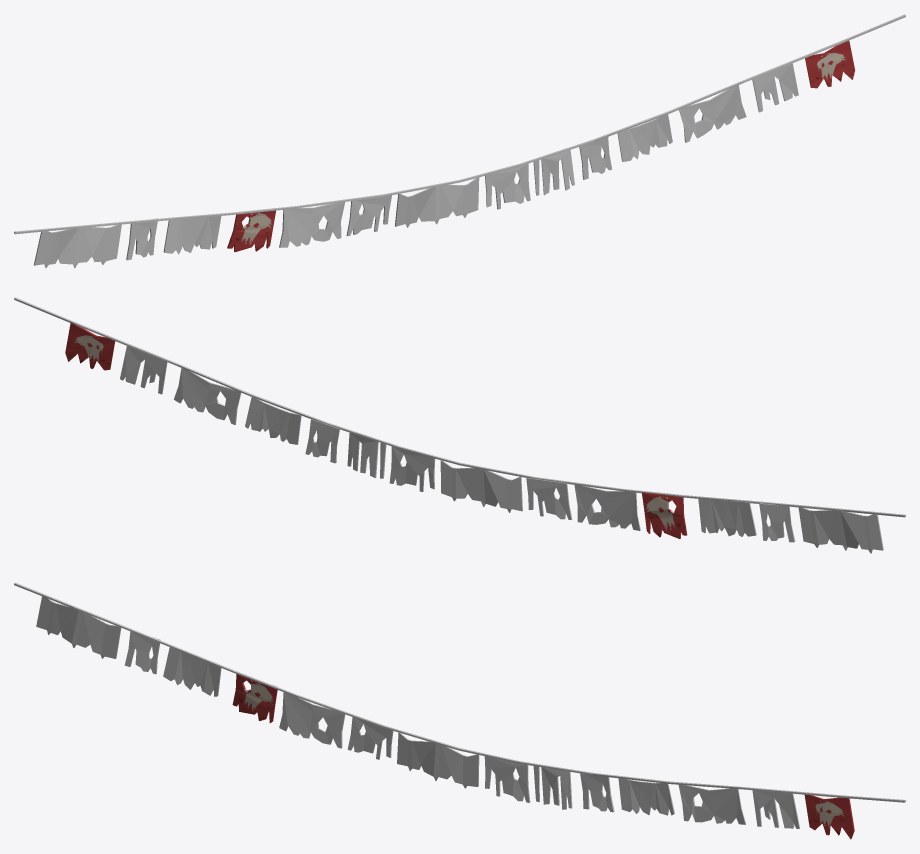
The model's file is SM_Prop_Bunting_04.fbx.
3 views of the same model, one above another, from view 1: azimuth 30°, elevation 25°; view 2: azimuth 150°, elevation 25°; view 3: azimuth 330°, elevation 25° (orthographic).
Visible parts, largest first — view 1: SM_Prop_Bunting_04; view 2: SM_Prop_Bunting_04; view 3: SM_Prop_Bunting_04.
Part boxes in pixels (bbox=[...]): SM_Prop_Bunting_04: bbox=[14, 14, 905, 267]; SM_Prop_Bunting_04: bbox=[14, 297, 905, 553]; SM_Prop_Bunting_04: bbox=[14, 582, 905, 839].
Bounding box in the file's own units: 1506 × 155 × 15.05.
